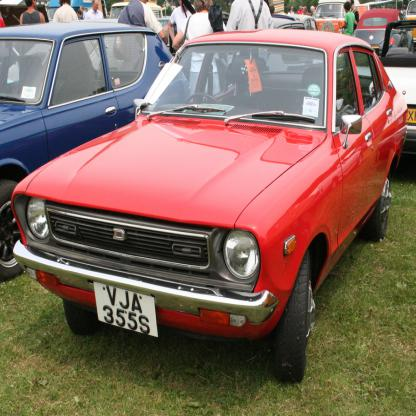Car: (0, 0, 415, 384)
